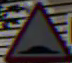Speed Breaker ahead: (6, 8, 60, 57)
